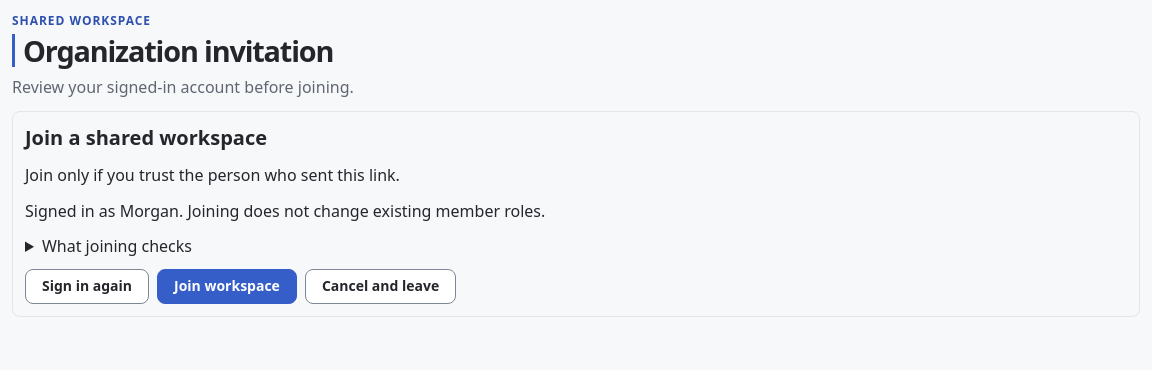
Test case: RAM-only explicit invitation acceptance › does not invent access from a receipt when fresh identity differs
This screenshot has width=1152, height=370.
expect the text "Signed in as Morgan" is shown: met, box [25,200,545,222]
Click the button "Join workspace": point(227, 286) [157,269,297,304]
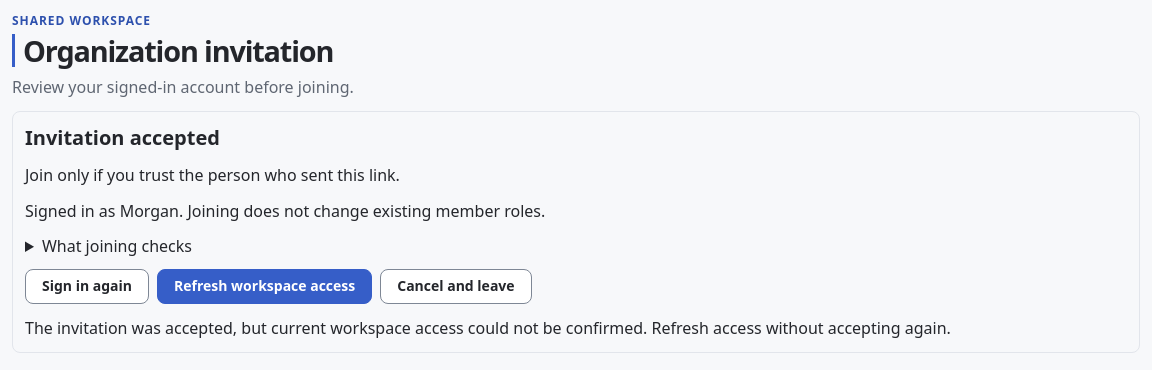
expect the message is shown: met, box [25,317,951,339]
